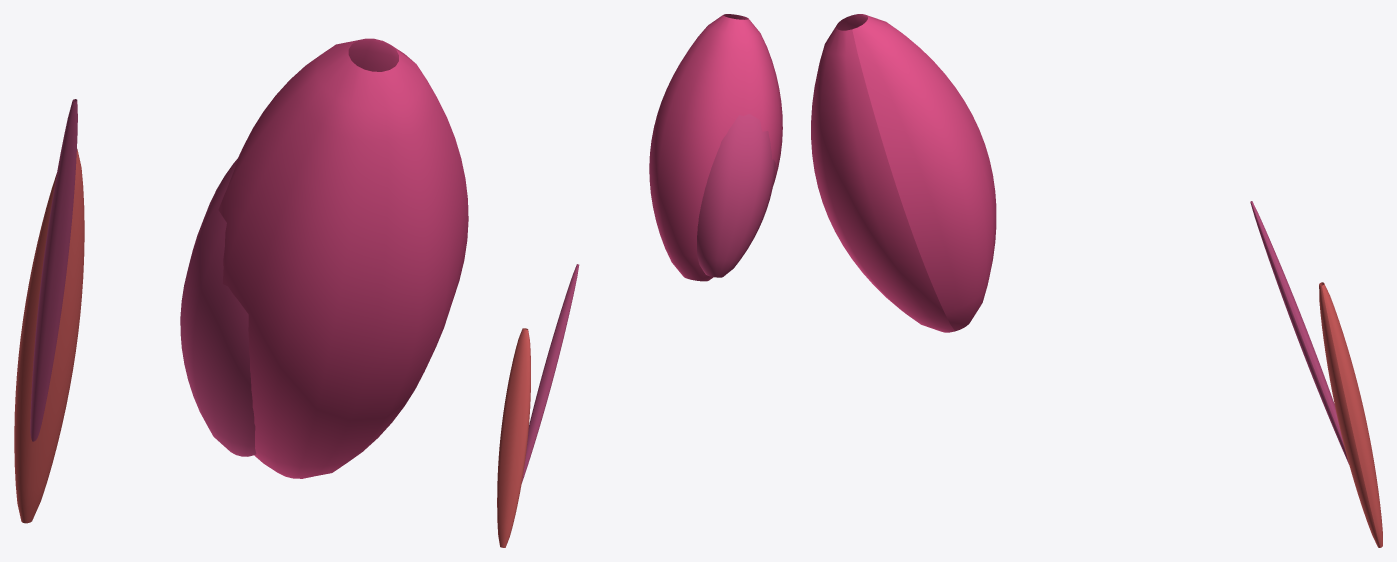
Rendered from muscular.glb.
3 views of the same model, side by side, from view 1: azimuth 30°, elevation 25°; view 2: azimuth 150°, elevation 25°; view 3: azimuth 270°, elevation 25° (orthographic). The views are drawn at different scales.
Parts seen in each view (by area): view 1: Mesh_Avian_PectoralisMajor, Mesh_Avian_Supracoracoideus, Mesh_Avian_Gastrocnemius, Mesh_Avian_AmbientMuscle; view 2: Mesh_Avian_PectoralisMajor, Mesh_Avian_Supracoracoideus, Mesh_Avian_Gastrocnemius, Mesh_Avian_AmbientMuscle; view 3: Mesh_Avian_PectoralisMajor, Mesh_Avian_Gastrocnemius, Mesh_Avian_AmbientMuscle.
Boxes of the visible parts, left/top/right/bottom form: Mesh_Avian_PectoralisMajor: left=218, top=38, right=468, bottom=478; Mesh_Avian_Supracoracoideus: left=180, top=158, right=256, bottom=456; Mesh_Avian_Gastrocnemius: left=14, top=149, right=84, bottom=523; Mesh_Avian_AmbientMuscle: left=30, top=99, right=77, bottom=441; Mesh_Avian_PectoralisMajor: left=649, top=14, right=782, bottom=281; Mesh_Avian_Supracoracoideus: left=697, top=114, right=775, bottom=277; Mesh_Avian_Gastrocnemius: left=497, top=328, right=530, bottom=547; Mesh_Avian_AmbientMuscle: left=521, top=264, right=579, bottom=483; Mesh_Avian_PectoralisMajor: left=811, top=14, right=996, bottom=332; Mesh_Avian_Gastrocnemius: left=1319, top=282, right=1382, bottom=547; Mesh_Avian_AmbientMuscle: left=1250, top=201, right=1349, bottom=464.
Size of the model in its own units: 0.155 by 0.5032 by 0.5114.
